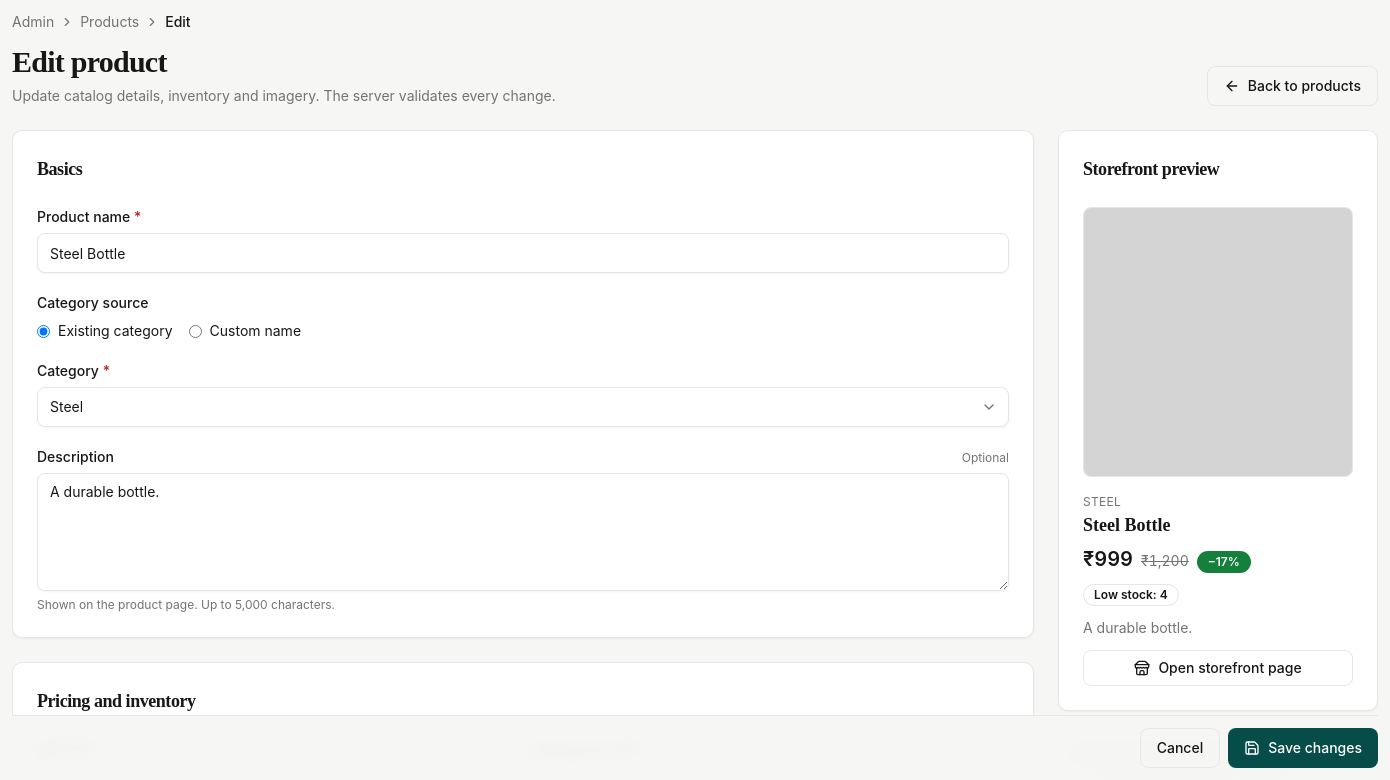
Scenario: AdminProductFormPage › loads an existing product and updates it without resending an unchanged image
The image size is (1390, 780).
Replace the text in the field labelled "Product name *" with "Steel Bottle Pro" at (523, 253), box 37,233 -> 1009,273
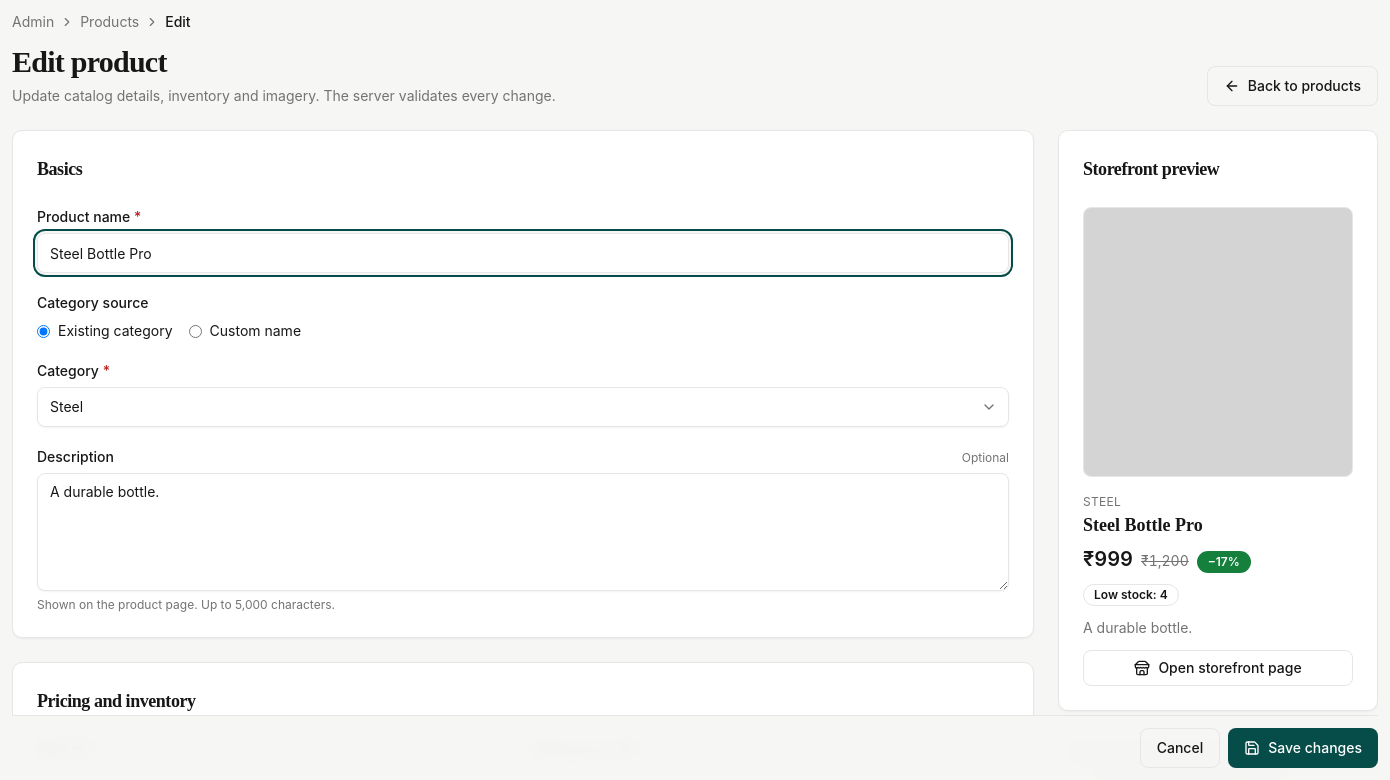
Click the button "Save changes" at (1303, 748), box 1228,728 -> 1378,768
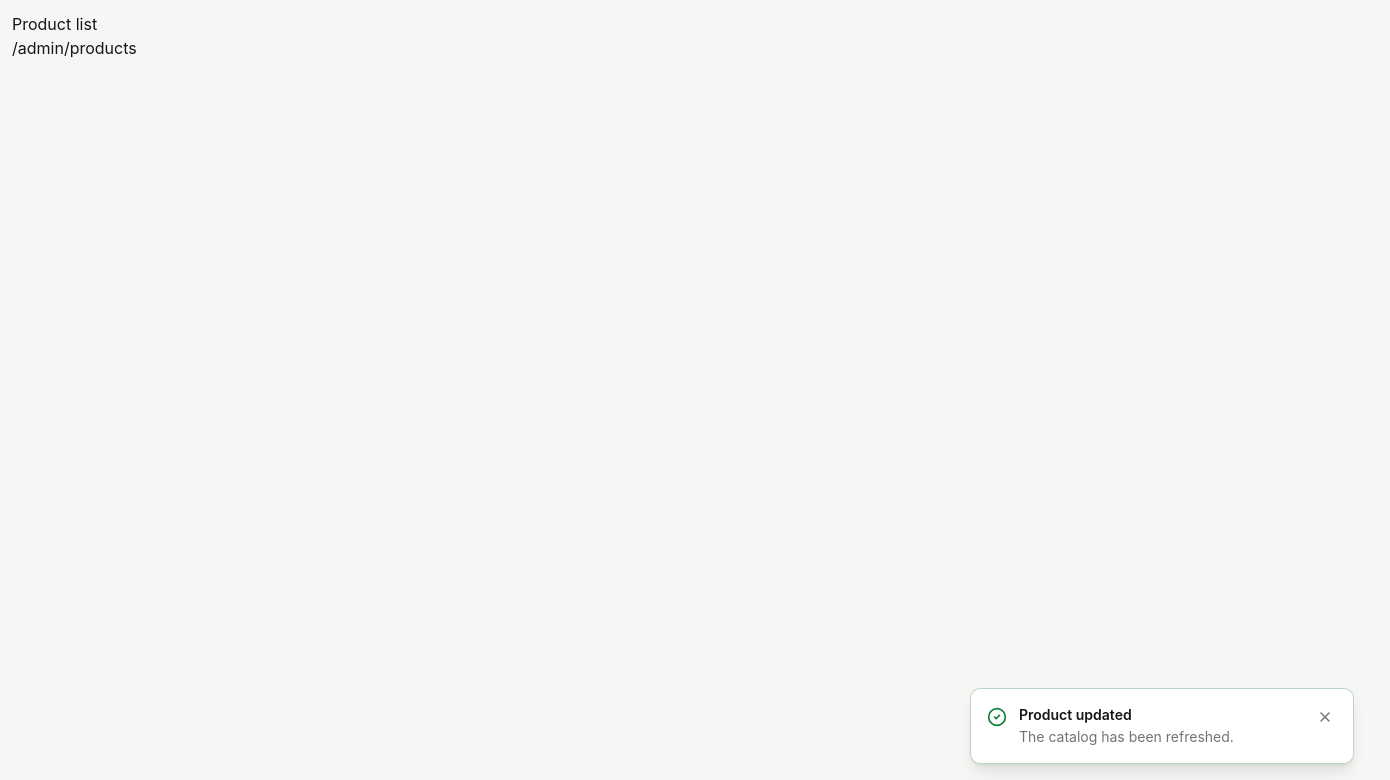
Expected: the text "Product updated" is shown, 1019,706 -> 1132,723
